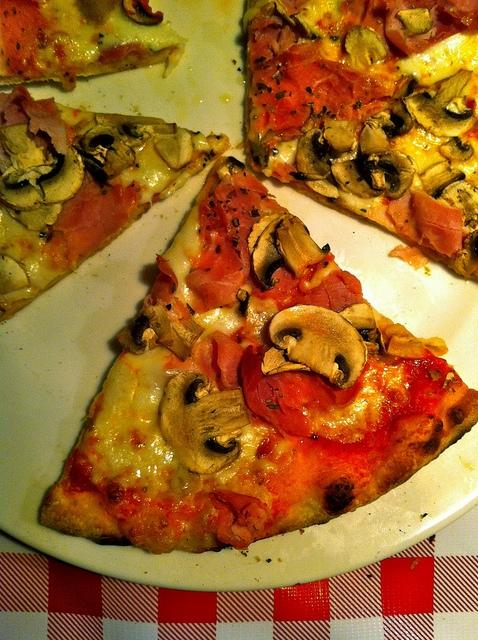mushroom: (158, 371, 248, 475), (269, 304, 368, 390), (0, 145, 84, 211), (116, 304, 206, 362), (403, 68, 477, 138), (419, 160, 478, 235), (276, 214, 330, 278), (296, 120, 356, 176), (360, 96, 416, 154), (96, 112, 178, 148), (370, 148, 420, 199), (345, 26, 388, 72), (153, 132, 193, 172), (102, 136, 136, 177), (78, 125, 116, 159), (0, 253, 31, 294), (396, 8, 435, 36), (122, 0, 162, 25), (438, 138, 472, 162)
tomato: (240, 344, 336, 442), (184, 195, 249, 313), (215, 169, 288, 242)
